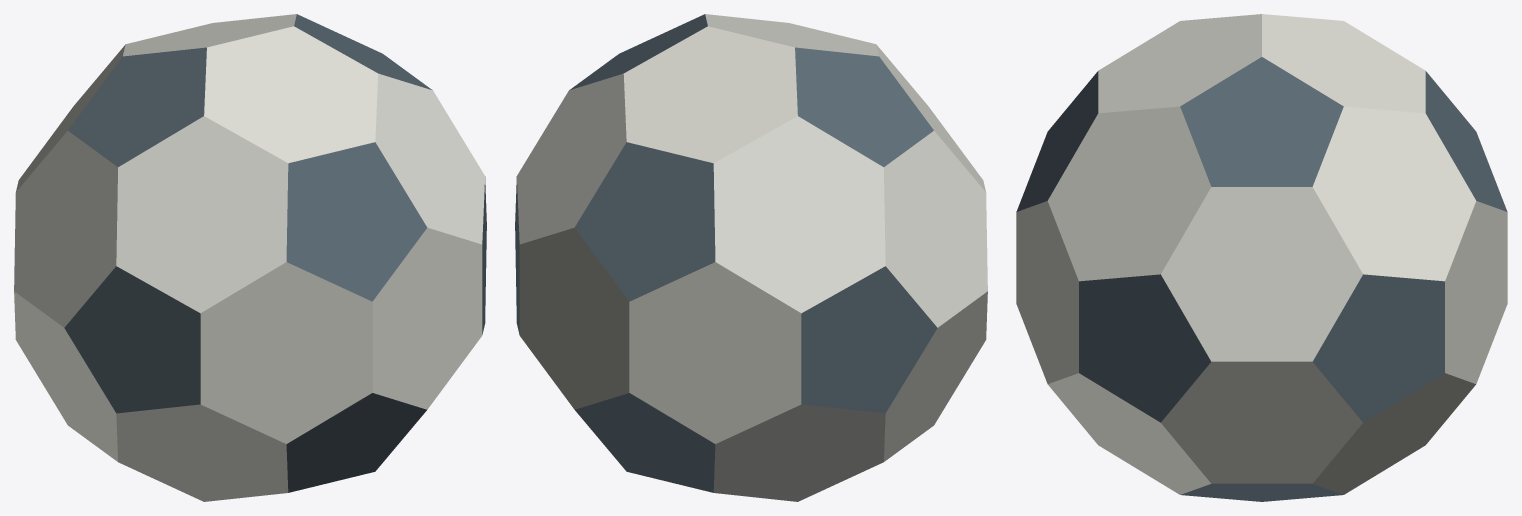
The model's file is ball.glb.
3 renders of one model, left to right at view 1: azimuth 30°, elevation 25°; view 2: azimuth 150°, elevation 25°; view 3: azimuth 270°, elevation 25°, orthographic.
Visible parts, largest first — view 1: soccer-ball; view 2: soccer-ball; view 3: soccer-ball.
Part boxes in pixels (<box>): soccer-ball: <box>14,14,486,501</box>; soccer-ball: <box>515,14,987,501</box>; soccer-ball: <box>1016,14,1507,501</box>.
Bounding box in the file's own units: 0.2155 × 0.2155 × 0.2155.
